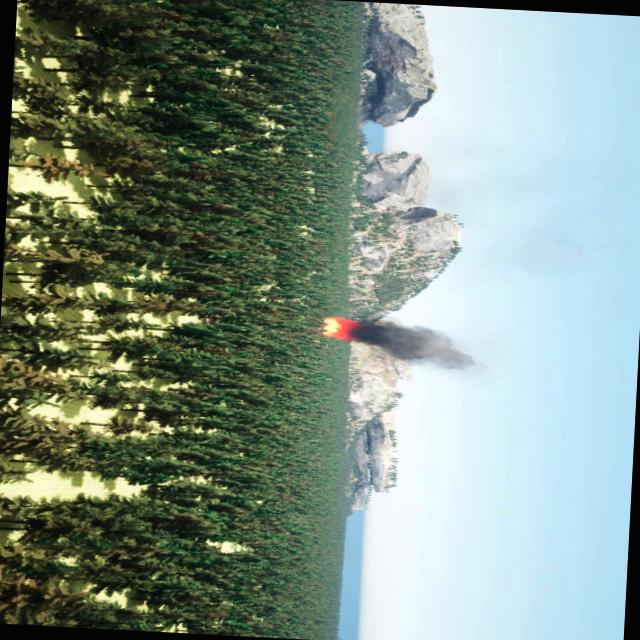fire: (324, 316, 356, 339)
smoke: (354, 317, 478, 371)
